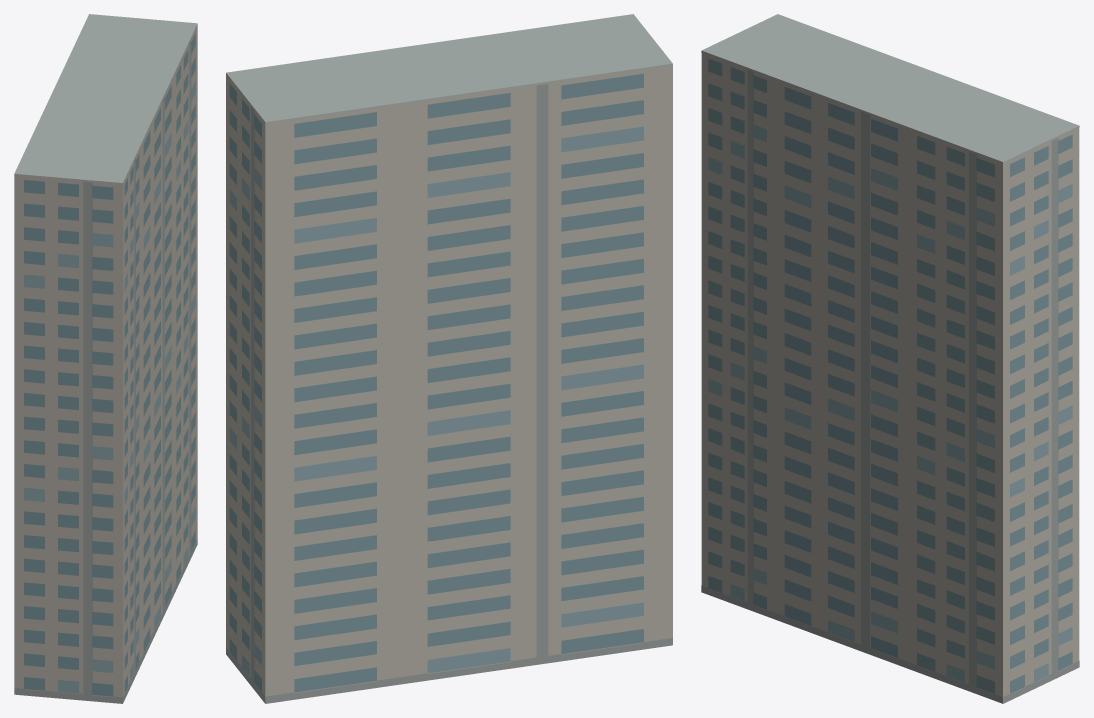
The model's file is residential-5454f468-be98-464d-ada5-a29083c754fd.glb.
The picture shows the model from 3 angles, left to right: view 1: azimuth 30°, elevation 25°; view 2: azimuth 150°, elevation 25°; view 3: azimuth 270°, elevation 25°; orthographic projection. The views are drawn at different scales.
Parts seen in each view (by area): view 1: residential-5454f468-be98-464d-ada5-a29083c754fd.tmp; view 2: residential-5454f468-be98-464d-ada5-a29083c754fd.tmp; view 3: residential-5454f468-be98-464d-ada5-a29083c754fd.tmp.
Part boxes in pixels (x1=…): residential-5454f468-be98-464d-ada5-a29083c754fd.tmp: x1=14, y1=14, x2=197, y2=703; residential-5454f468-be98-464d-ada5-a29083c754fd.tmp: x1=226, y1=14, x2=672, y2=703; residential-5454f468-be98-464d-ada5-a29083c754fd.tmp: x1=701, y1=14, x2=1079, y2=703.
Bounding box in the file's own units: 36.36 × 62 × 39.2.
